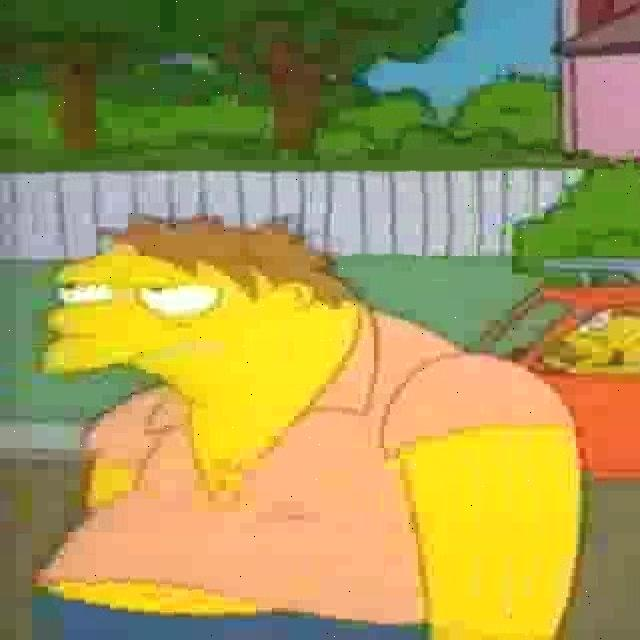Barney Gumble: (37, 214, 367, 404)
